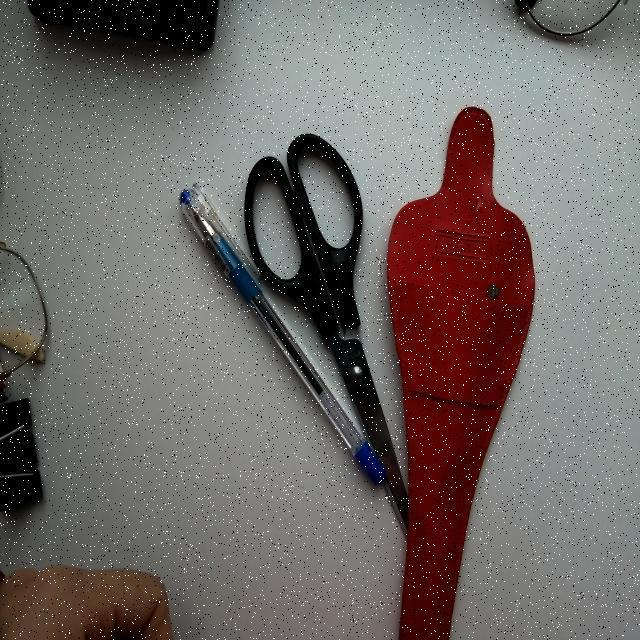scissors: (227, 92, 424, 555)
